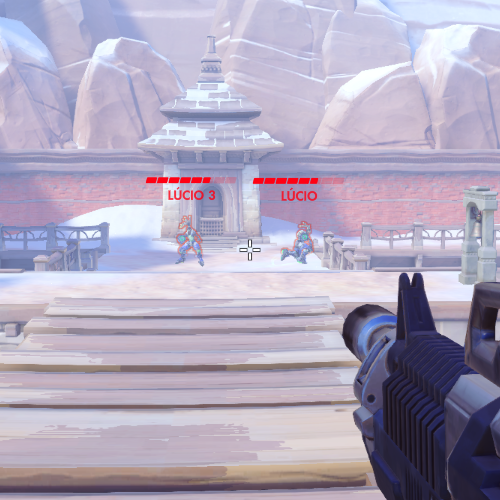hpbar: (252, 177, 345, 185), (145, 176, 237, 184)
